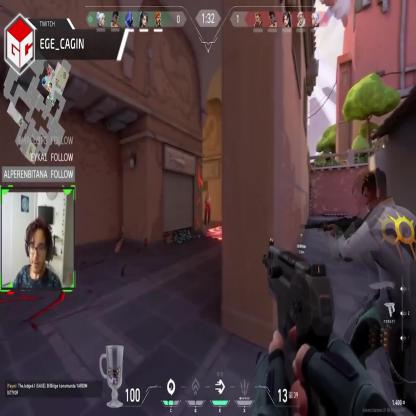enemy: (203, 192, 212, 228)
enemy_head: (206, 192, 209, 196)
